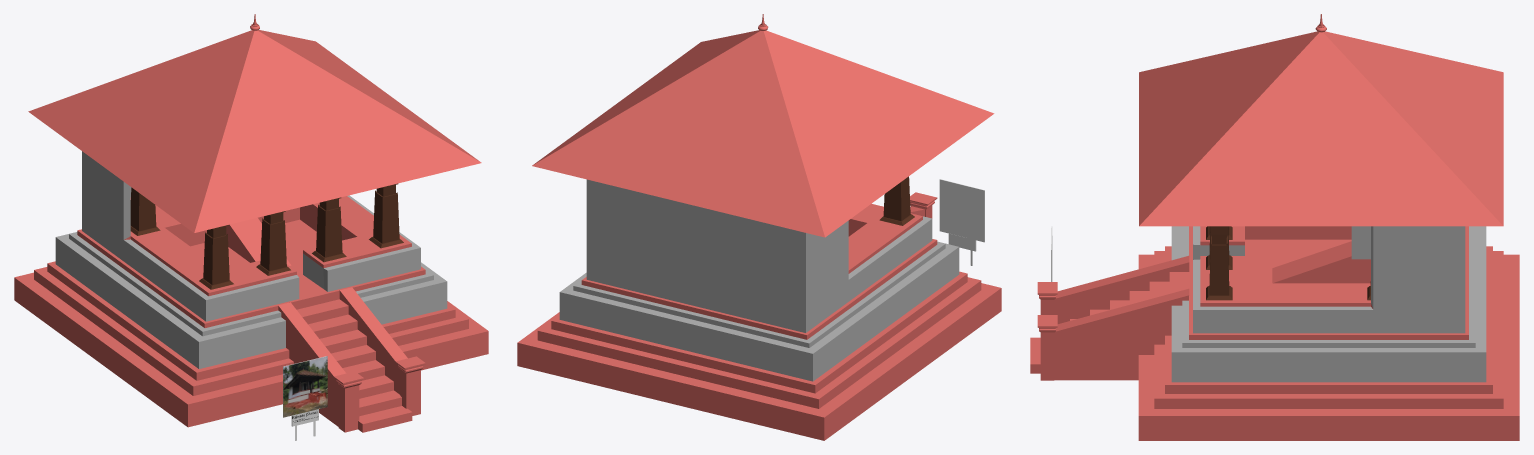
Rendered from Kaimada.glb.
3 views of the same model, side by side, from view 1: azimuth 30°, elevation 25°; view 2: azimuth 150°, elevation 25°; view 3: azimuth 270°, elevation 25° (orthographic). The views are drawn at different scales.
Parts seen in each view (by area): view 1: Bakka pore, Plane, Stair, Stair Rail, Pillar, IMG.008, StairPIl, Pillar3, Pillar2, Bakka pore.002, Pillar.001; view 2: Bakka pore, Plane, IMG.008, Pillar; view 3: Bakka pore, Plane, Stair Rail, Bakka pore.002, Stair, StairPIl, Pillar, Bakka pore.001.
Boxes of the visible parts, box(x1,y1,x2,y2) form: Bakka pore: box(14, 151, 488, 427); Plane: box(28, 29, 481, 232); Stair: box(289, 286, 412, 432); Stair Rail: box(278, 287, 407, 426); Pillar: box(199, 183, 403, 289); IMG.008: box(283, 356, 327, 440); StairPIl: box(334, 356, 425, 432); Pillar3: box(256, 211, 290, 275); Pillar2: box(312, 197, 346, 262); Bakka pore.002: box(226, 218, 291, 265); Pillar.001: box(130, 187, 160, 235); Bakka pore: box(517, 179, 1001, 440); Plane: box(532, 30, 994, 237); IMG.008: box(939, 179, 984, 265); Pillar: box(879, 176, 914, 225); Bakka pore: box(1138, 226, 1519, 440); Plane: box(1139, 31, 1503, 226); Stair Rail: box(1054, 255, 1189, 380); Bakka pore.002: box(1272, 241, 1370, 283); Stair: box(1030, 262, 1192, 373); StairPIl: box(1037, 282, 1057, 380); Pillar: box(1206, 226, 1232, 300); Bakka pore.001: box(1351, 226, 1370, 259).
Bounding box in the file's own units: 2.84 × 2.85 × 3.64.
6 materials, 1 textured.
